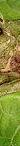Tomato leaf late blight: (0, 19, 20, 146)
